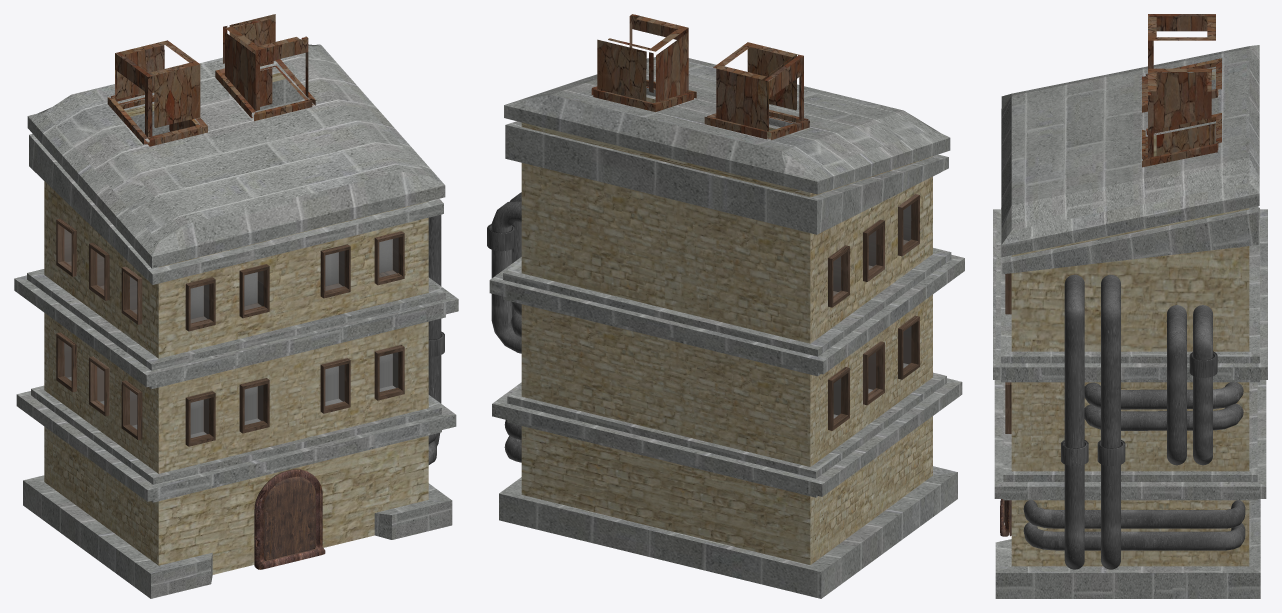
File: House.fbx
3 renders of one model, left to right at view 1: azimuth 30°, elevation 25°; view 2: azimuth 150°, elevation 25°; view 3: azimuth 270°, elevation 25°, orthographic. The views are drawn at different scales.
Parts seen in each view (by area): view 1: Cube.001, Cube.002, Cube.003, Cube.004, Cylinder.001; view 2: Cube.002, Cube.001, Cube.003, Cylinder.001; view 3: Cube.001, Cube.002, Cylinder.001, Cube.003, Cube.004.
Boxes of the visible parts, x1,y1,x2,y2 form: Cube.001: (14, 44, 458, 598); Cube.002: (44, 72, 428, 574); Cube.003: (107, 14, 315, 146); Cube.004: (254, 469, 325, 569); Cylinder.001: (428, 214, 444, 464); Cube.002: (521, 97, 932, 564); Cube.001: (489, 57, 964, 598); Cube.003: (591, 14, 809, 140); Cylinder.001: (487, 192, 521, 462); Cube.001: (993, 45, 1267, 598); Cube.002: (1005, 71, 1249, 566); Cylinder.001: (1023, 274, 1245, 569); Cube.003: (1142, 14, 1221, 167); Cube.004: (1000, 499, 1011, 536).
Bounding box in the file's own units: 1361 × 1706 × 908.
